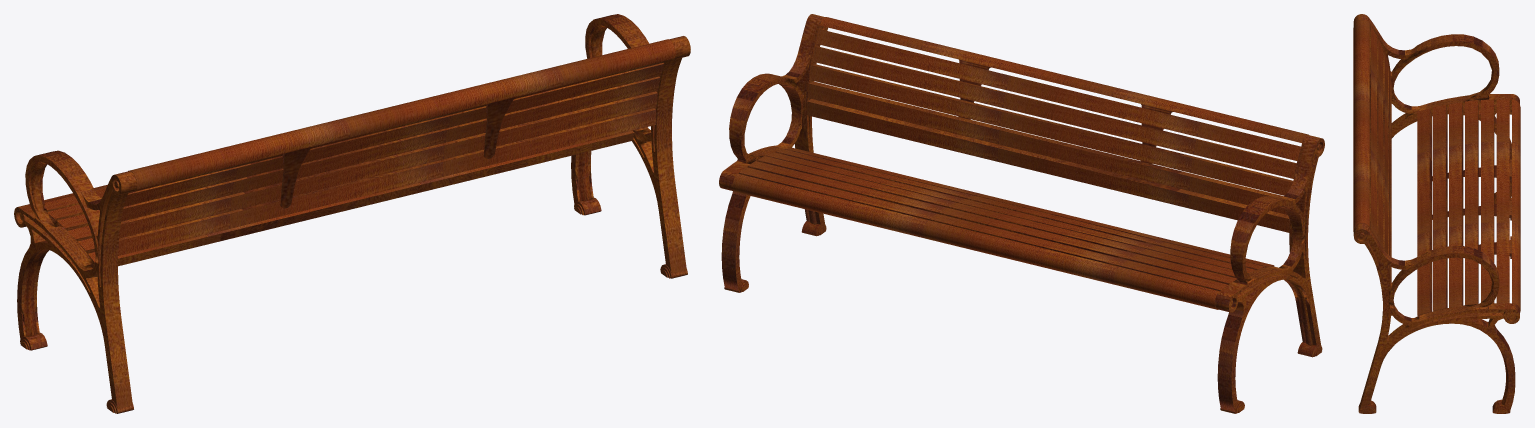
3 renders of one model, left to right at view 1: azimuth 30°, elevation 25°; view 2: azimuth 150°, elevation 25°; view 3: azimuth 270°, elevation 25°, orthographic. The views are drawn at different scales.
Parts seen in each view (by area): view 1: mesh1_mesh1-geometry, mesh56_mesh56-geometry, mesh7_mesh7-geometry, mesh9_mesh9-geometry, mesh5_mesh5-geometry; view 2: mesh1_mesh1-geometry, mesh7_mesh7-geometry, mesh56_mesh56-geometry, mesh9_mesh9-geometry; view 3: mesh1_mesh1-geometry, mesh9_mesh9-geometry, mesh7_mesh7-geometry, mesh56_mesh56-geometry, mesh3_mesh3-geometry.
Boxes of the visible parts, left/top/right/bottom form: mesh1_mesh1-geometry: left=44, top=60, right=665, bottom=266; mesh56_mesh56-geometry: left=14, top=150, right=136, bottom=413; mesh7_mesh7-geometry: left=44, top=39, right=675, bottom=202; mesh9_mesh9-geometry: left=571, top=14, right=690, bottom=278; mesh5_mesh5-geometry: left=280, top=97, right=514, bottom=208; mesh1_mesh1-geometry: left=739, top=29, right=1300, bottom=291; mesh7_mesh7-geometry: left=732, top=17, right=1308, bottom=309; mesh56_mesh56-geometry: left=1215, top=135, right=1324, bottom=413; mesh9_mesh9-geometry: left=719, top=14, right=827, bottom=292; mesh1_mesh1-geometry: left=1369, top=26, right=1509, bottom=315; mesh9_mesh9-geometry: left=1353, top=223, right=1519, bottom=413; mesh7_mesh7-geometry: left=1353, top=19, right=1520, bottom=312; mesh56_mesh56-geometry: left=1353, top=14, right=1519, bottom=203; mesh3_mesh3-geometry: left=1432, top=159, right=1511, bottom=258.
Size of the model in its own units: 0.8916 by 0.3497 by 0.2876.
